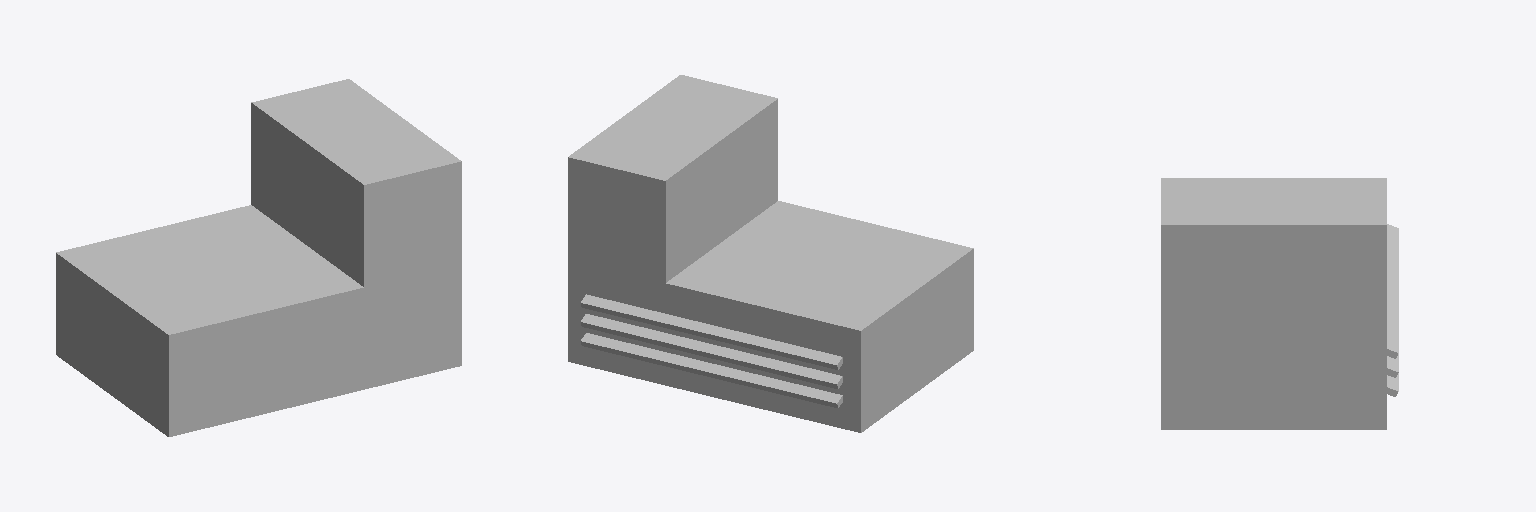
File: memory_formatter.obj
3 views of the same model, side by side, from view 1: azimuth 30°, elevation 25°; view 2: azimuth 150°, elevation 25°; view 3: azimuth 270°, elevation 25° (orthographic).
Parts seen in each view (by area): view 1: cube; view 2: cube; view 3: cube.
Boxes of the visible parts, box(x1,y1,x2,y2) form: cube: box(56, 79, 461, 436); cube: box(568, 75, 973, 432); cube: box(1161, 178, 1398, 429).
Size of the model in its own units: 3 by 2 by 2.1.